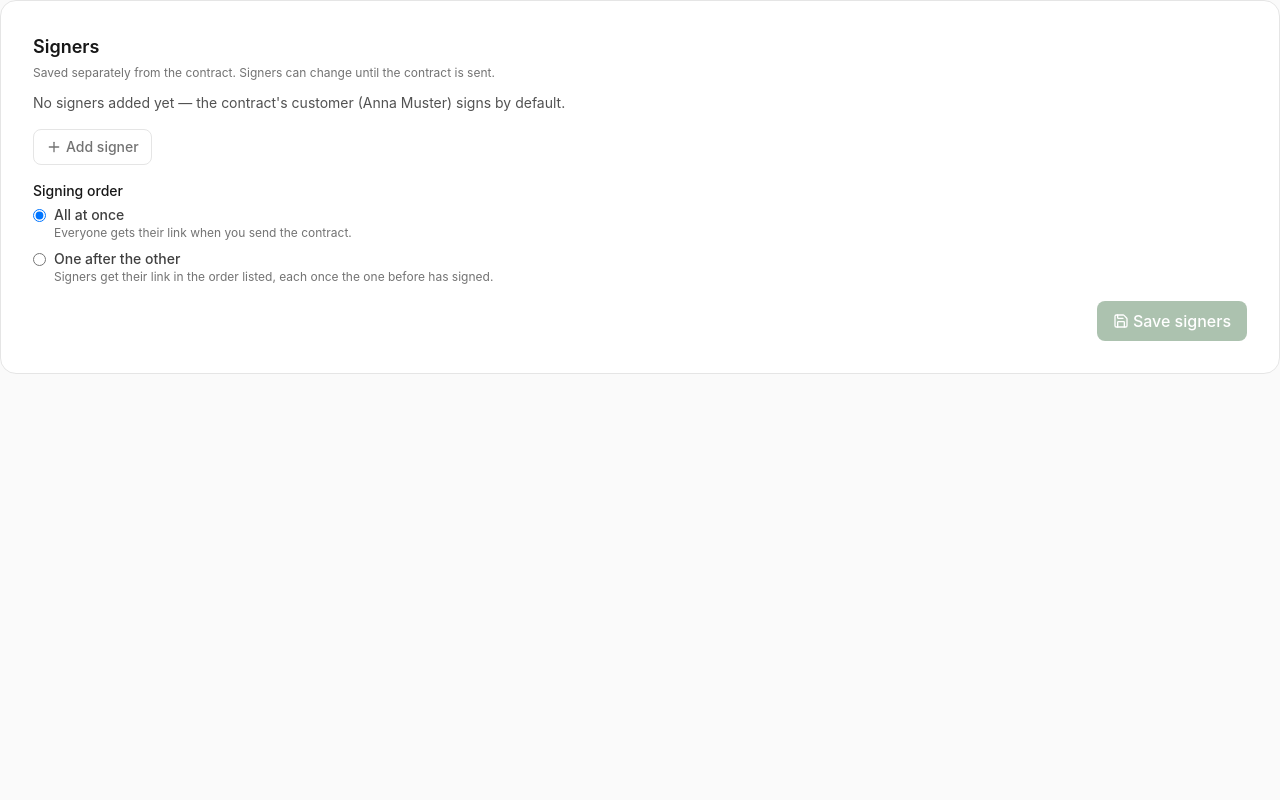
stops at five signers
The image size is (1280, 800).
Click the button "Add signer" at (92, 147), box [33,129,152,165]
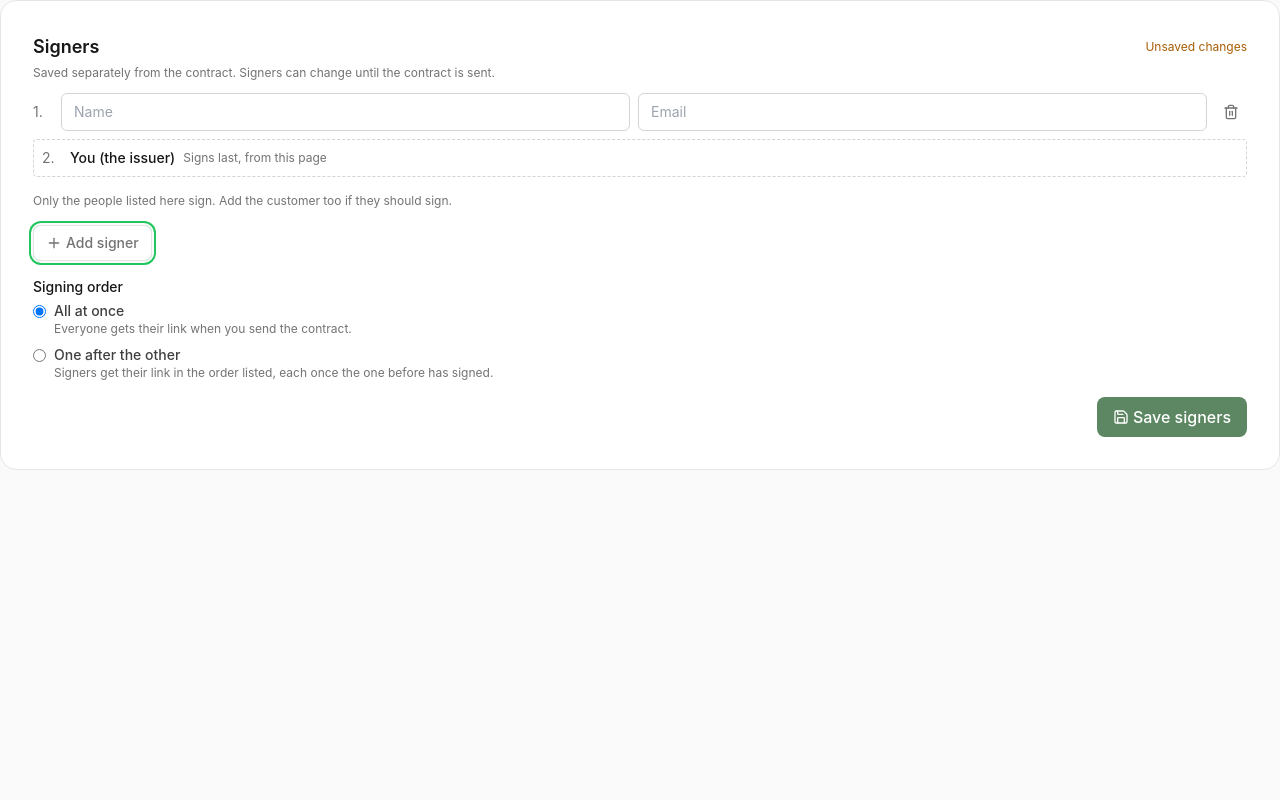
Click the button "Add signer" at (92, 243), box [33,225,152,261]
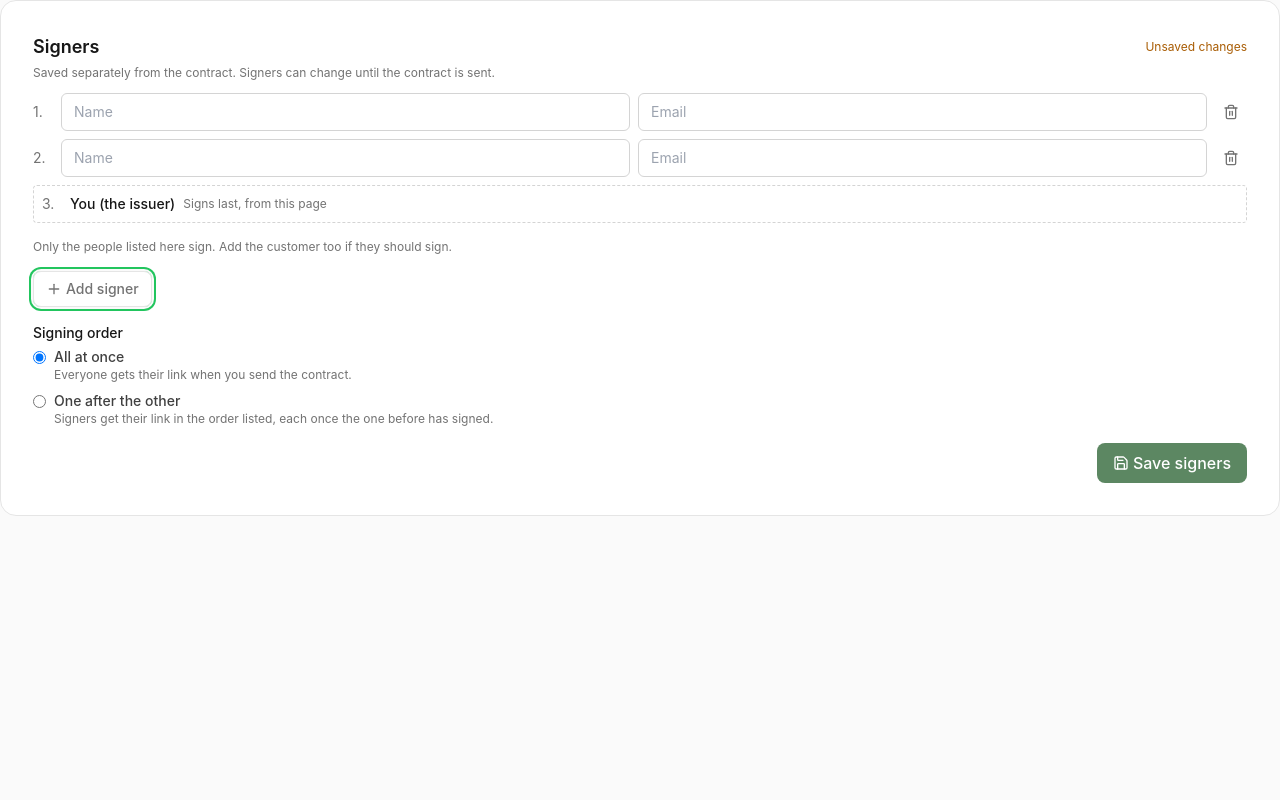
Click the button "Add signer" at (92, 289), box [33,271,152,307]
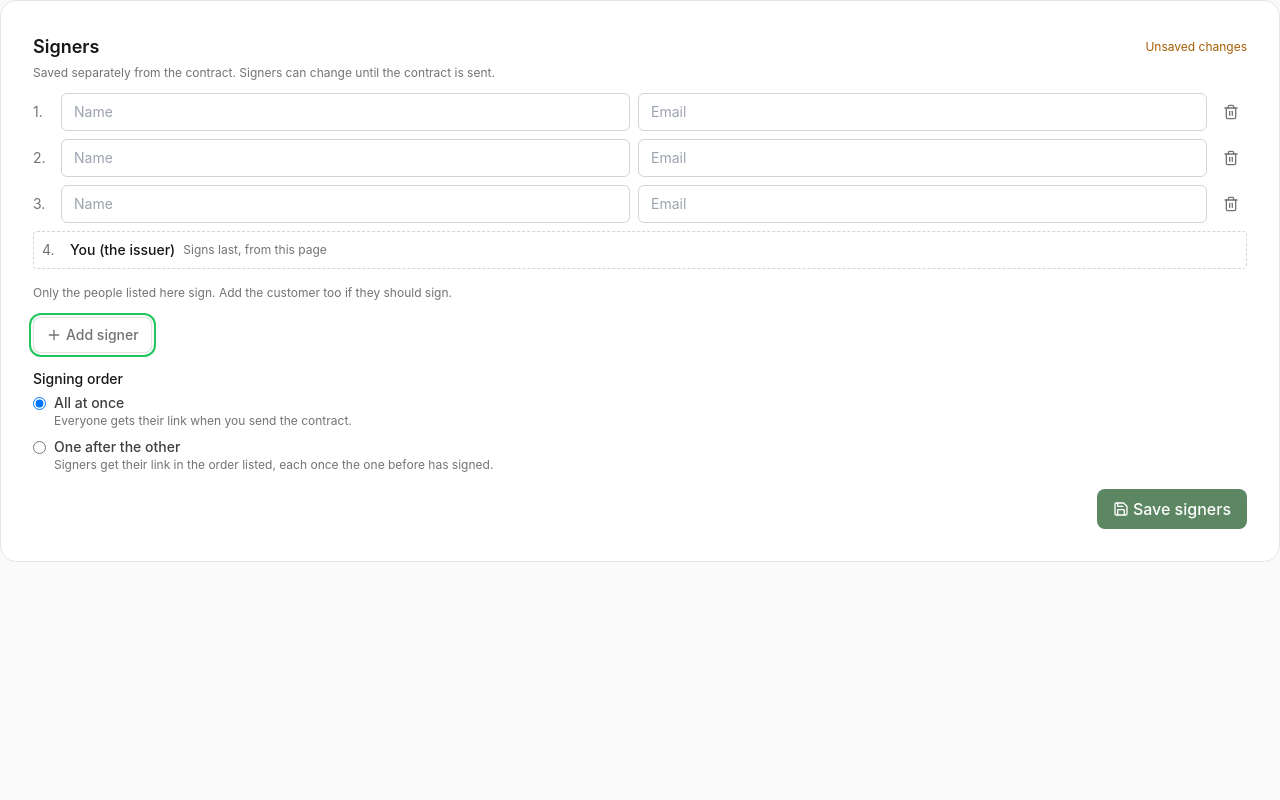
Click the button "Add signer" at (92, 335), box [33,317,152,353]
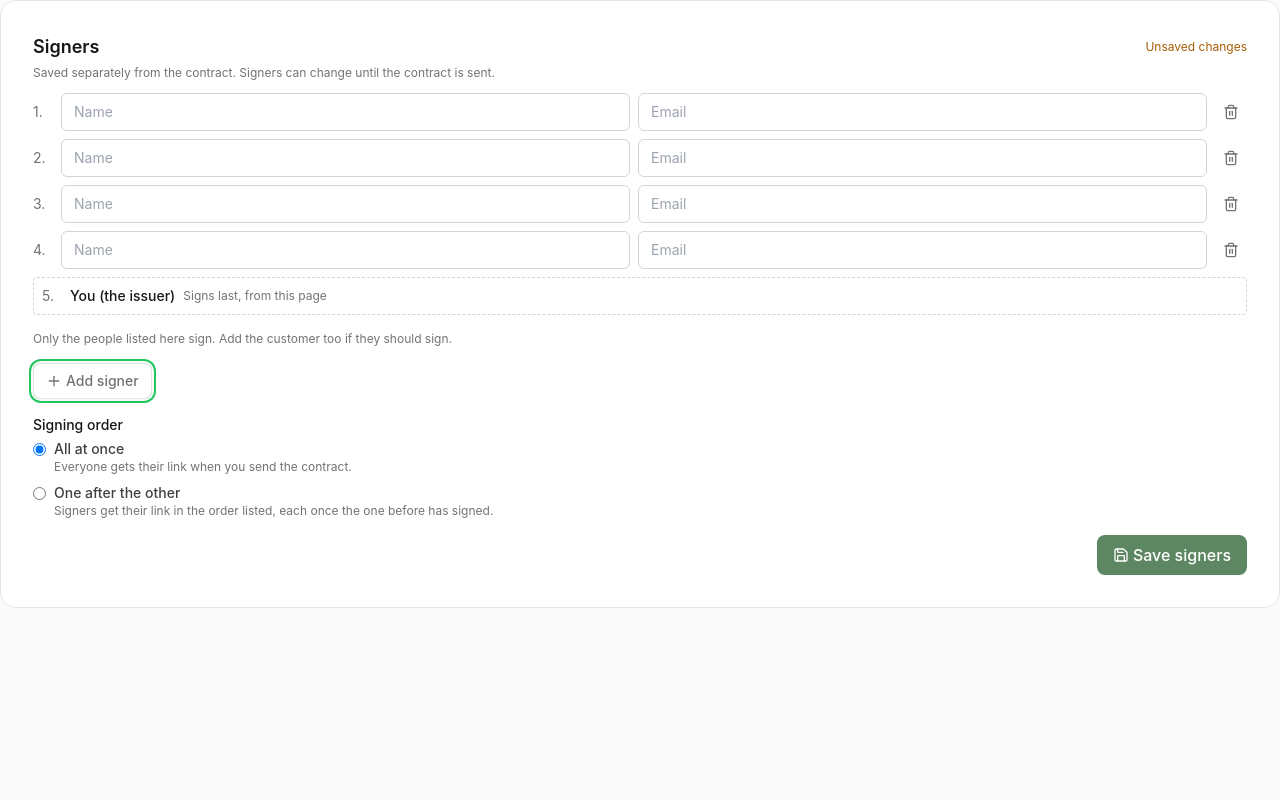
Click the button "Add signer" at (92, 381), box [33,363,152,399]
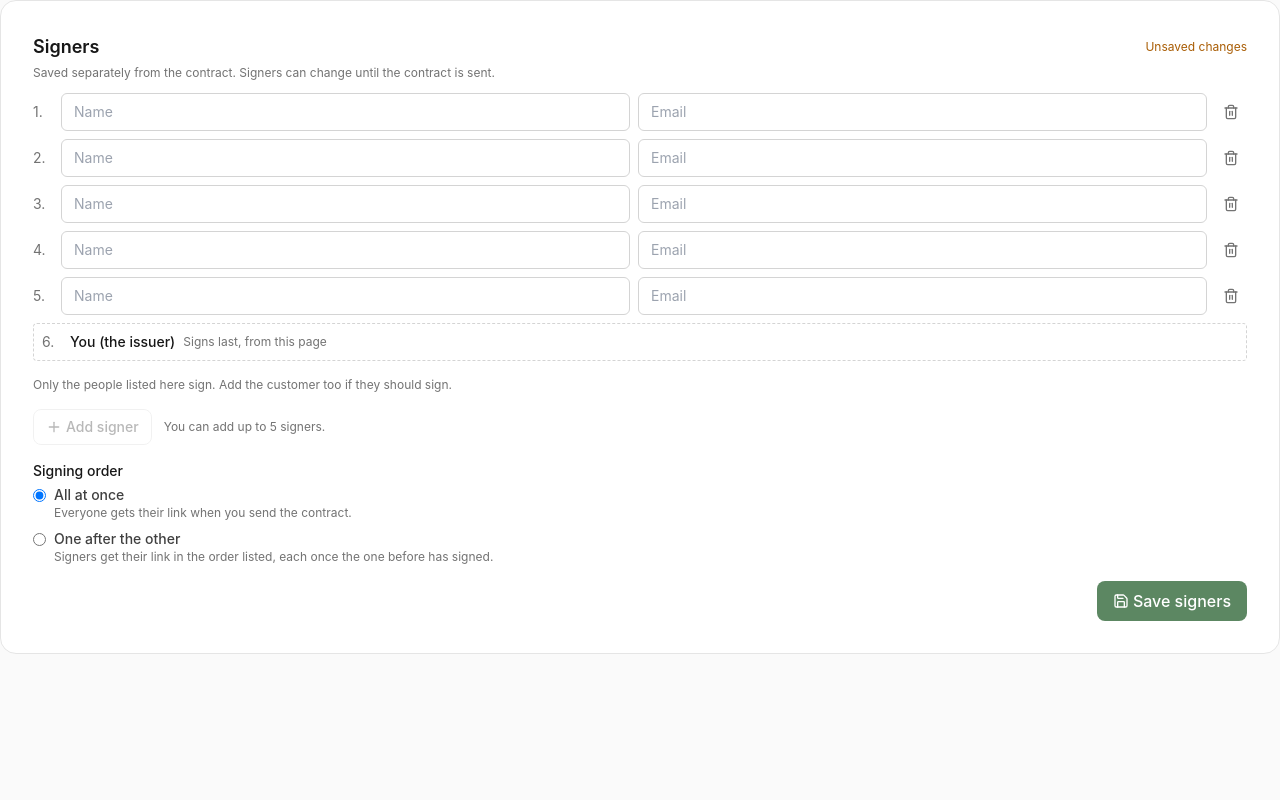
Expected: the field named "Name of signer 5" is shown, [61,277,630,315]
Expected: the button "Add signer" is disabled, [33,409,152,445]
Expected: the text "You can add up to 5 signers." is shown, [164,419,325,435]
